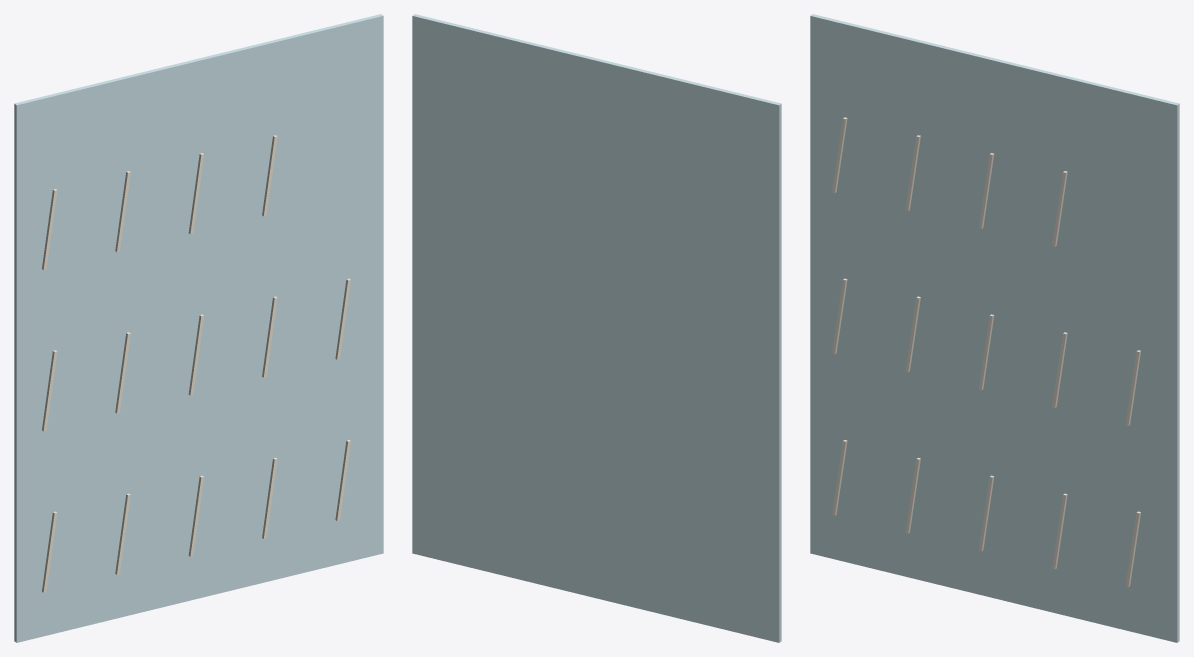
Rendered from cozy-home-interiors-rain-window-plane-da032eaa.glb.
The picture shows the model from 3 angles, left to right: view 1: azimuth 30°, elevation 25°; view 2: azimuth 150°, elevation 25°; view 3: azimuth 330°, elevation 25°; orthographic projection.
Visible parts, largest first — view 1: rain-window-plane; view 2: rain-window-plane; view 3: rain-window-plane.
Part boxes in pixels (x1=…): rain-window-plane: x1=14, y1=14, x2=383, y2=642; rain-window-plane: x1=412, y1=14, x2=781, y2=642; rain-window-plane: x1=810, y1=14, x2=1179, y2=642.
Size of the model in its own units: 1 by 1.4 by 0.024.
